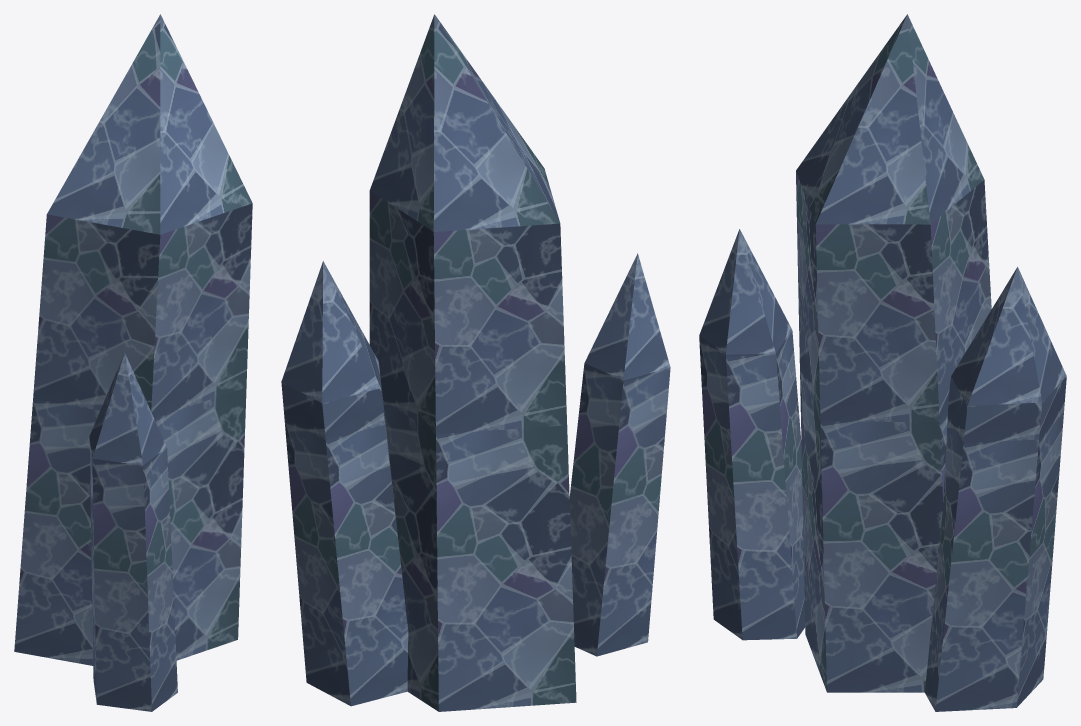
Rendered from Oracle_Crystal_Slab_1_LOD2.gltf.
3 renders of one model, left to right at view 1: azimuth 30°, elevation 25°; view 2: azimuth 150°, elevation 25°; view 3: azimuth 270°, elevation 25°, orthographic. The views are drawn at different scales.
Visible parts, largest first — view 1: Oracle_Crystal_Slab_1_LOD2; view 2: Oracle_Crystal_Slab_1_LOD2; view 3: Oracle_Crystal_Slab_1_LOD2.
Part boxes in pixels (<box>): Oracle_Crystal_Slab_1_LOD2: <box>14,14,252,711</box>; Oracle_Crystal_Slab_1_LOD2: <box>281,14,670,711</box>; Oracle_Crystal_Slab_1_LOD2: <box>699,14,1066,711</box>.
Bounding box in the file's own units: 11.64 × 28.98 × 14.69.
Materials: 1 (1 with a texture image).
